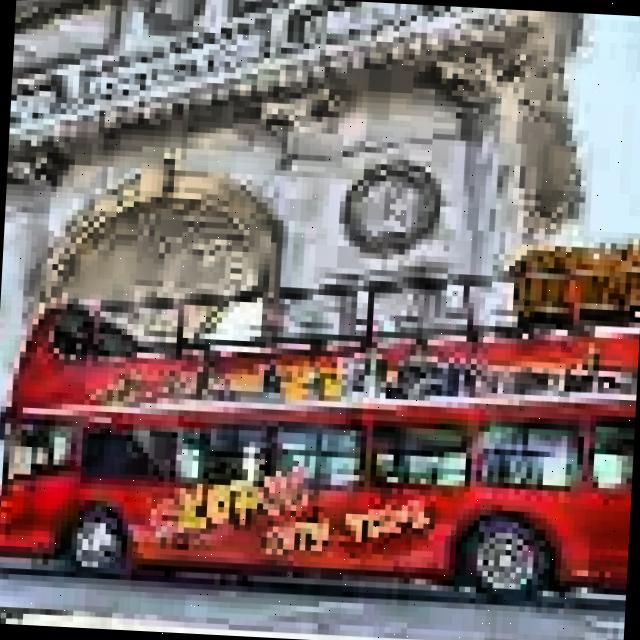triumphal arch: (0, 0, 600, 425)
